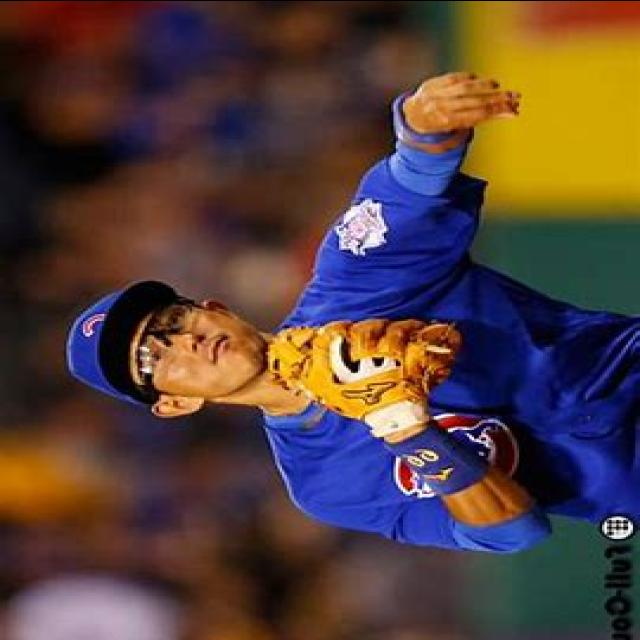glove: (264, 313, 467, 429)
